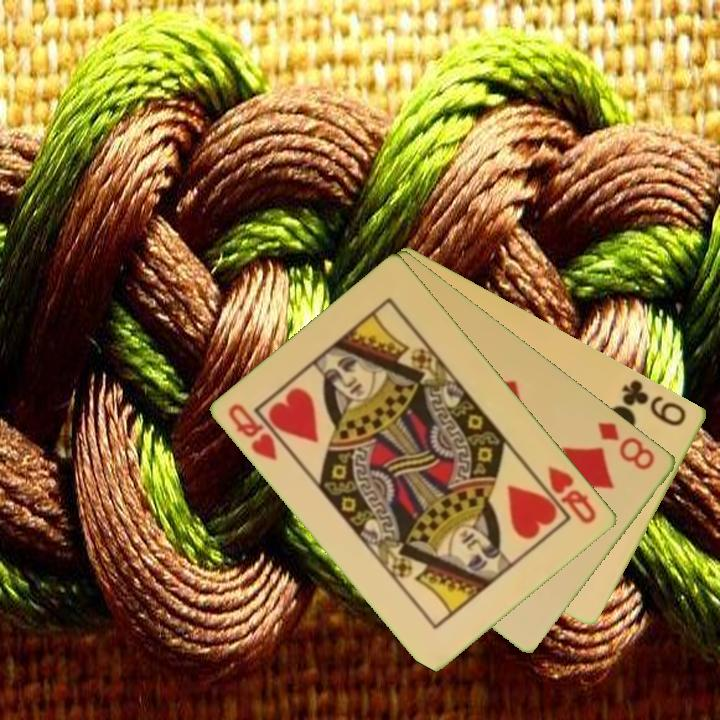8d: (594, 418, 658, 473)
9c: (618, 375, 690, 429)
Qh: (544, 462, 600, 527), (225, 400, 281, 464)
